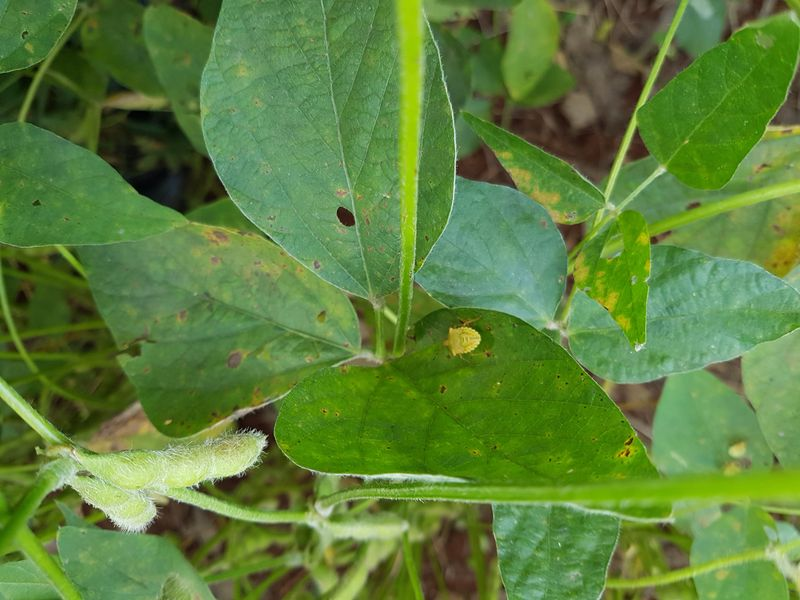Euschistus_heros_ninfa: (434, 310, 494, 370)
